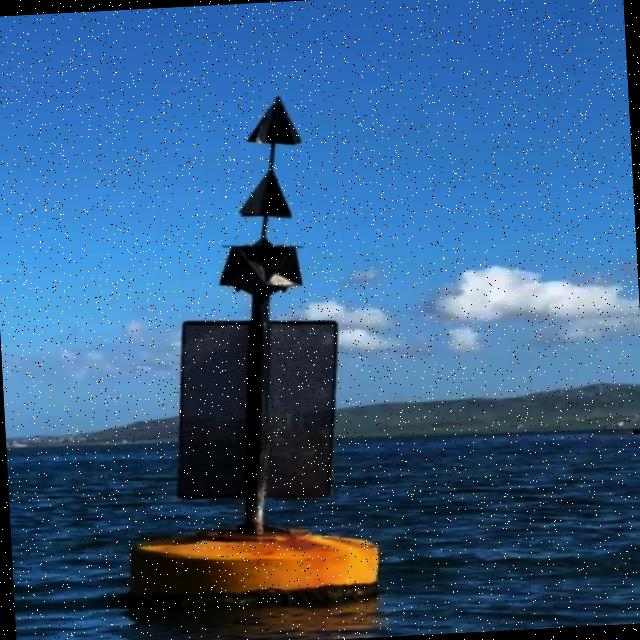marque: (108, 97, 393, 615)
